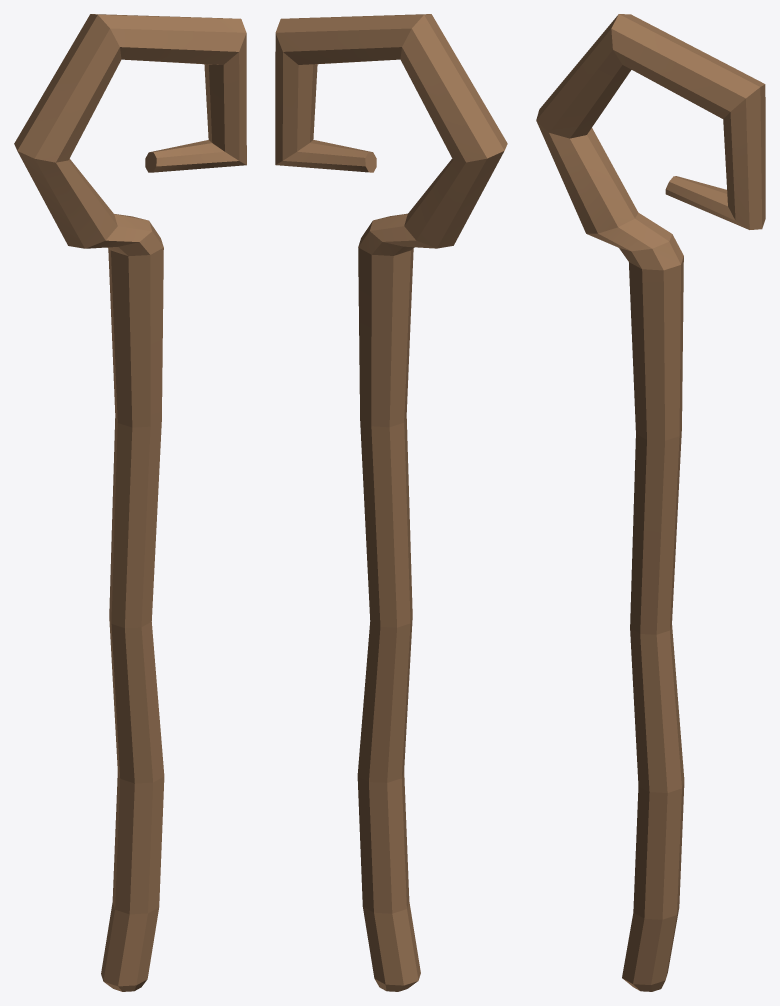
Rendered from staff.dae.
3 views of the same model, side by side, from view 1: azimuth 30°, elevation 25°; view 2: azimuth 150°, elevation 25°; view 3: azimuth 330°, elevation 25° (orthographic).
Parts seen in each view (by area): view 1: staff; view 2: staff; view 3: staff.
Boxes of the visible parts, box(x1,y1,x2,y2) form: staff: box(14, 14, 246, 991); staff: box(275, 14, 507, 991); staff: box(536, 14, 765, 991).
Bounding box in the file's own units: 0.4351 × 0.0964 × 1.8.
